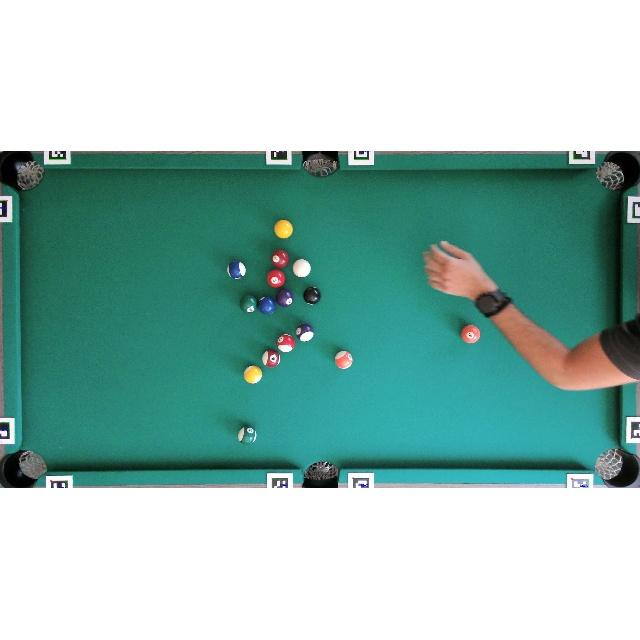cue ball: (292, 259, 311, 277)
other: (274, 218, 294, 240), (226, 260, 246, 280), (243, 365, 263, 384), (238, 426, 257, 445), (257, 296, 276, 315), (276, 288, 294, 308), (335, 350, 353, 370), (277, 333, 295, 352), (271, 249, 289, 268), (240, 294, 258, 313), (296, 323, 314, 342), (461, 325, 480, 343), (303, 286, 321, 305), (262, 350, 280, 368), (267, 270, 285, 288)
